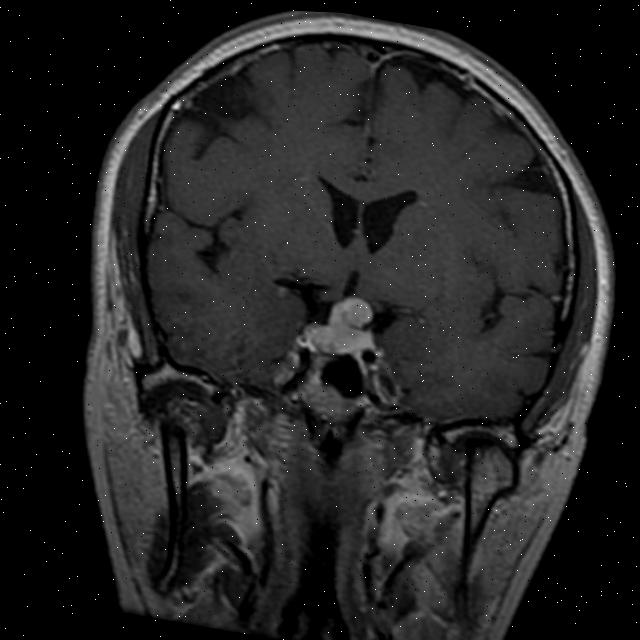Pituitary: (300, 287, 383, 363), (296, 352, 365, 425)
